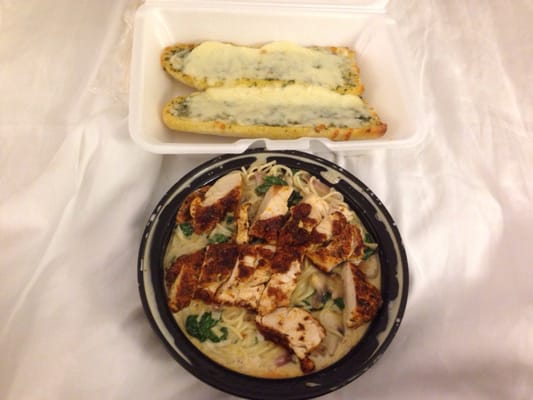soup: (159, 37, 388, 141)
